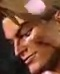kevin: (1, 12, 51, 72)
